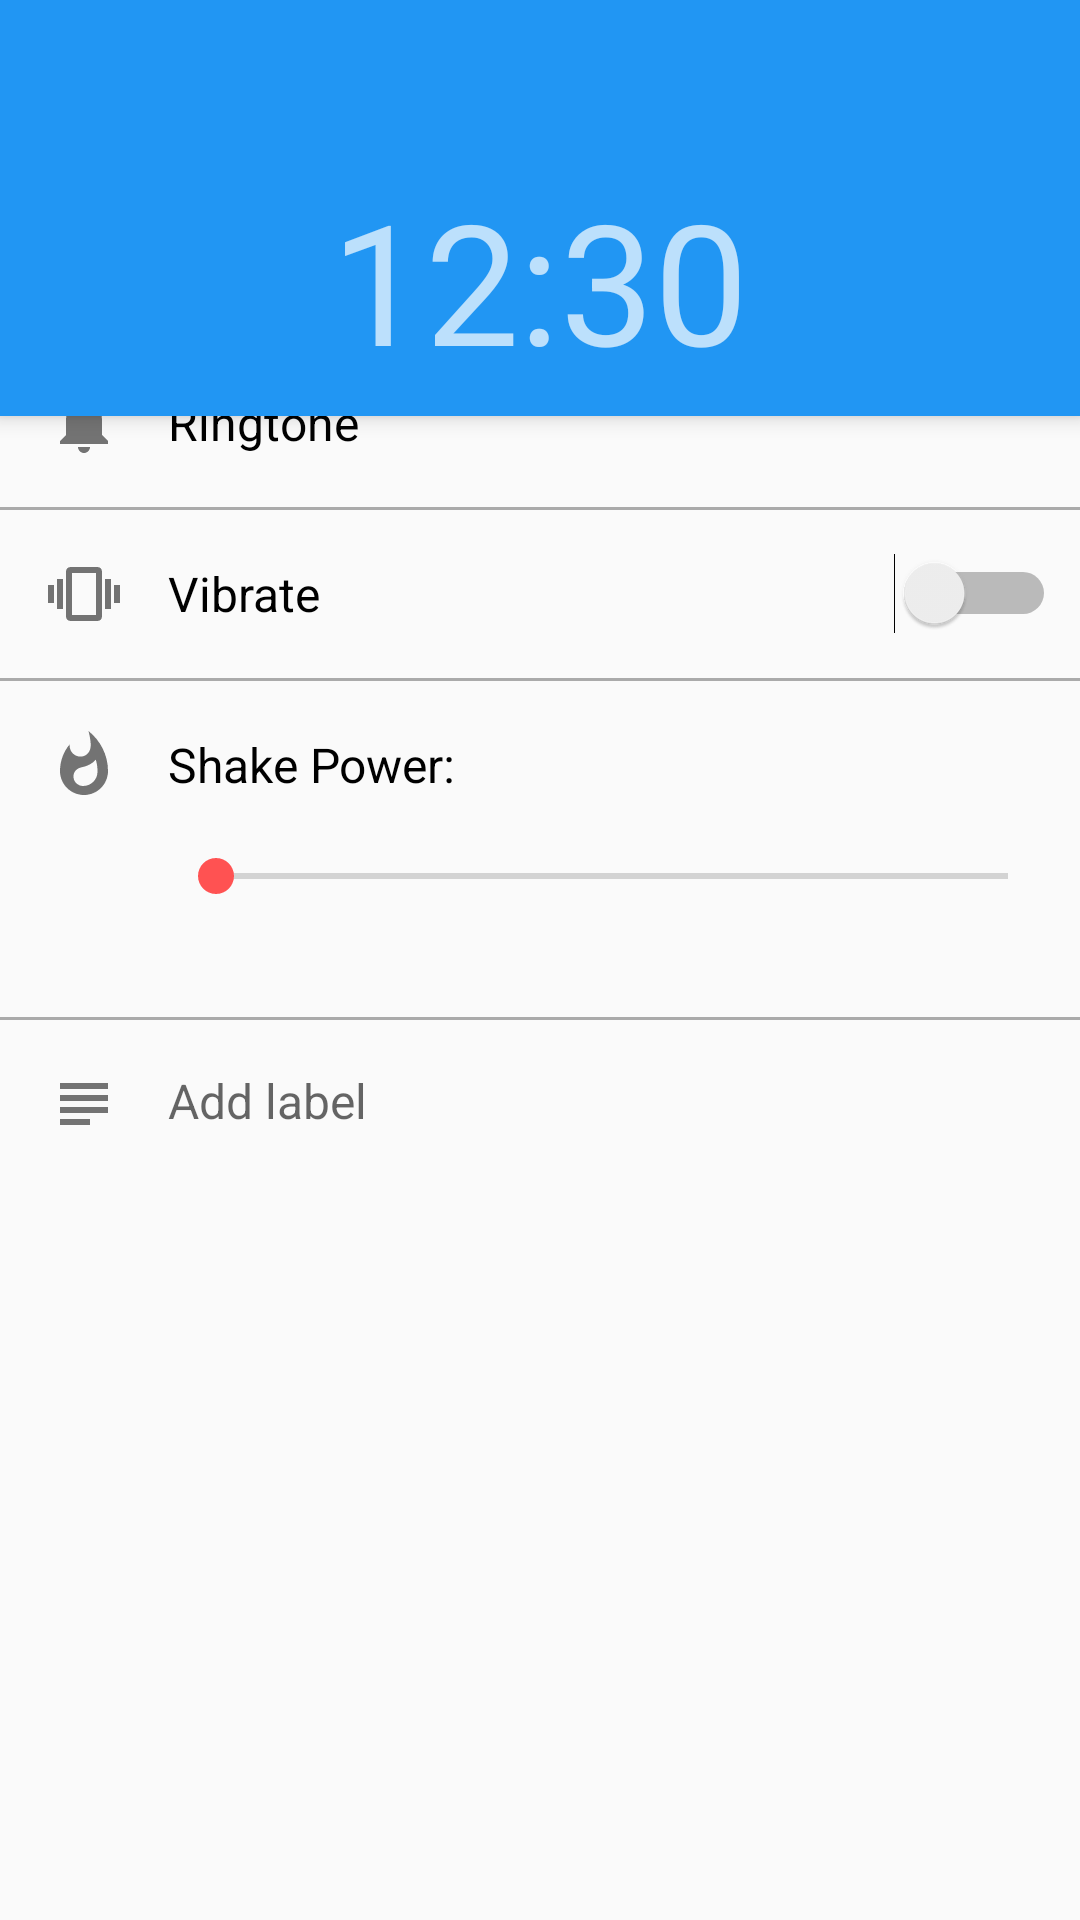

Icon bounding boxes for this 1080×1920 phone screenshot, format (left=x1, top=y1, right=x2, bottom=y2):
vibration: (left=48, top=567, right=120, bottom=621)
